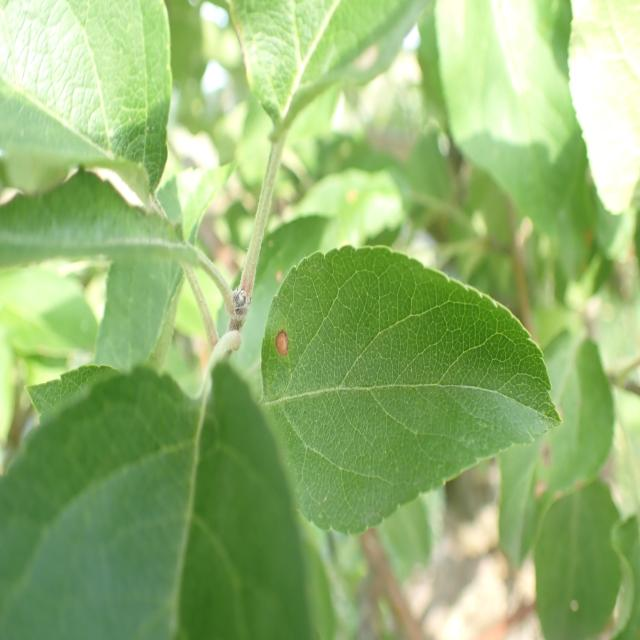Black Rot: (260, 272, 301, 378)
